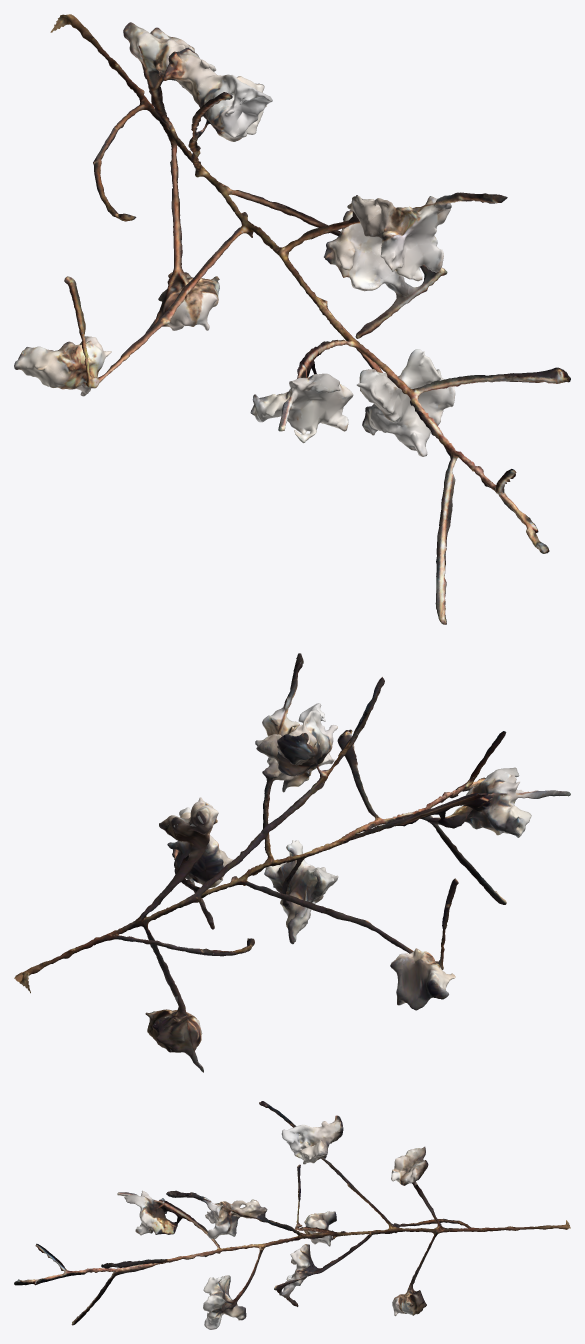
The model's file is plant_03_grouped.obj.
3 views of the same model, one above another, from view 1: azimuth 30°, elevation 25°; view 2: azimuth 150°, elevation 25°; view 3: azimuth 270°, elevation 25° (orthographic). The views are drawn at different scales.
Parts seen in each view (by area): view 1: Cotton_Boll_Part, Cotton_Remaining; view 2: Cotton_Boll_Part, Cotton_Remaining; view 3: Cotton_Boll_Part, Cotton_Remaining.
Part boxes in pixels (x1,y1,x2,y2): Cotton_Boll_Part: (14, 22, 455, 456); Cotton_Remaining: (50, 14, 570, 624); Cotton_Boll_Part: (145, 703, 531, 1072); Cotton_Remaining: (14, 653, 570, 1024); Cotton_Boll_Part: (124, 1115, 428, 1329); Cotton_Remaining: (14, 1101, 570, 1325).
Bounding box in the file's own units: 1.41 × 1.46 × 3.44.
Materials: 1 (1 with a texture image).
